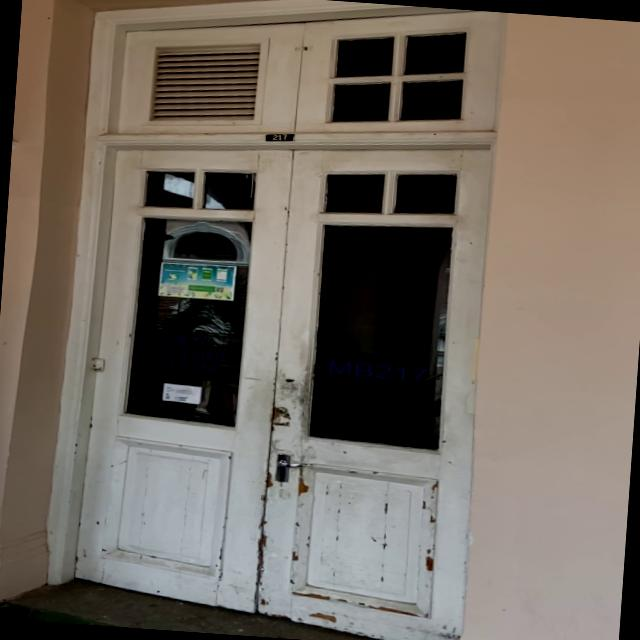room217: (262, 130, 296, 144)
room217Window: (322, 356, 434, 384)
